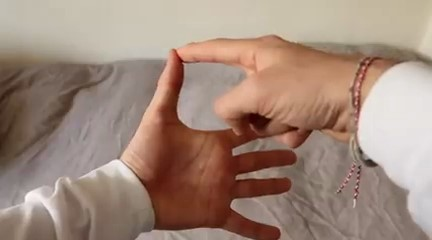A: (115, 23, 366, 240)
